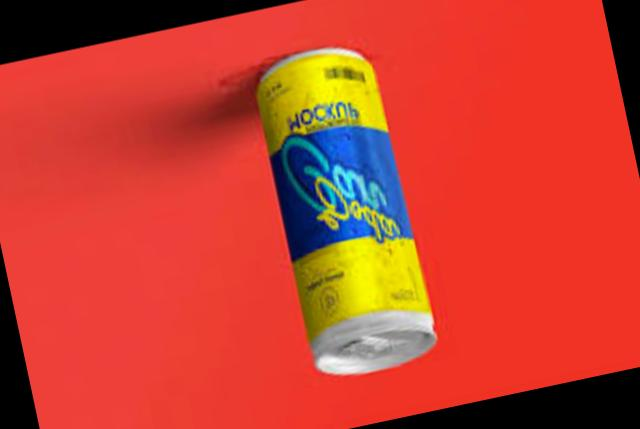metal: (253, 53, 430, 377)
